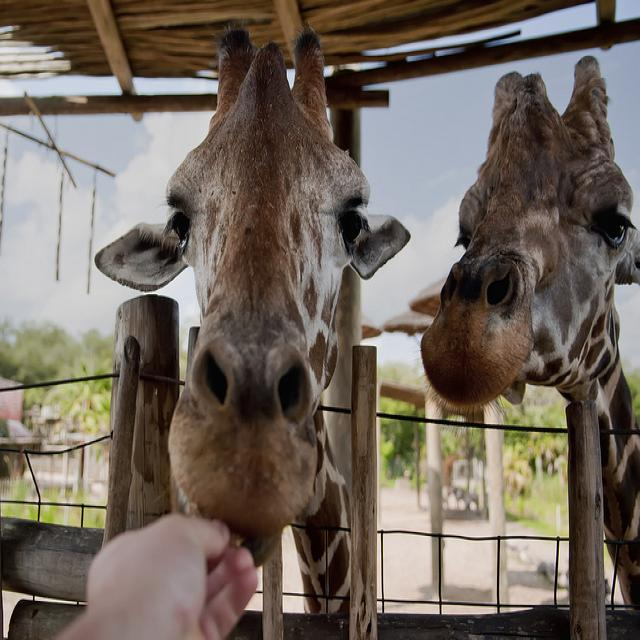Vehicle: (452, 460, 468, 492)
